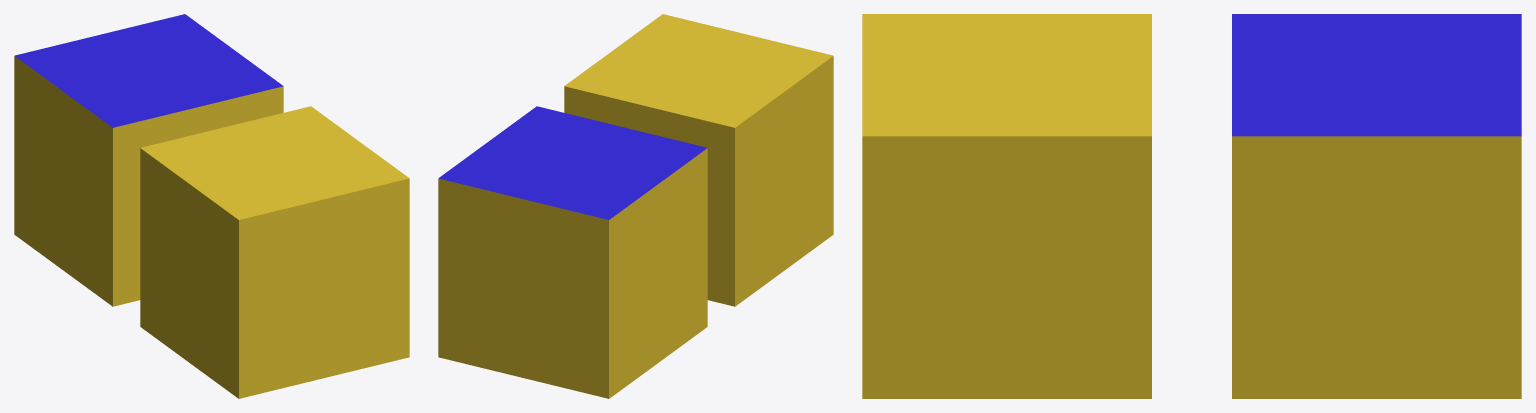
The model's file is Cubo3.fbx.
The picture shows the model from 3 angles, left to right: view 1: azimuth 30°, elevation 25°; view 2: azimuth 150°, elevation 25°; view 3: azimuth 270°, elevation 25°; orthographic projection. The views are drawn at different scales.
Parts seen in each view (by area): view 1: Cobo B, Cobo A; view 2: Cobo A, Cobo B; view 3: Cobo A, Cobo B.
Part boxes in pixels (left/top/right/bottom): Cobo B: left=140, top=106, right=409, bottom=398; Cobo A: left=14, top=14, right=283, bottom=306; Cobo A: left=438, top=106, right=707, bottom=398; Cobo B: left=564, top=14, right=833, bottom=306; Cobo A: left=1232, top=14, right=1521, bottom=398; Cobo B: left=862, top=14, right=1151, bottom=398.
Bounding box in the file's own units: 200 × 200 × 455.
